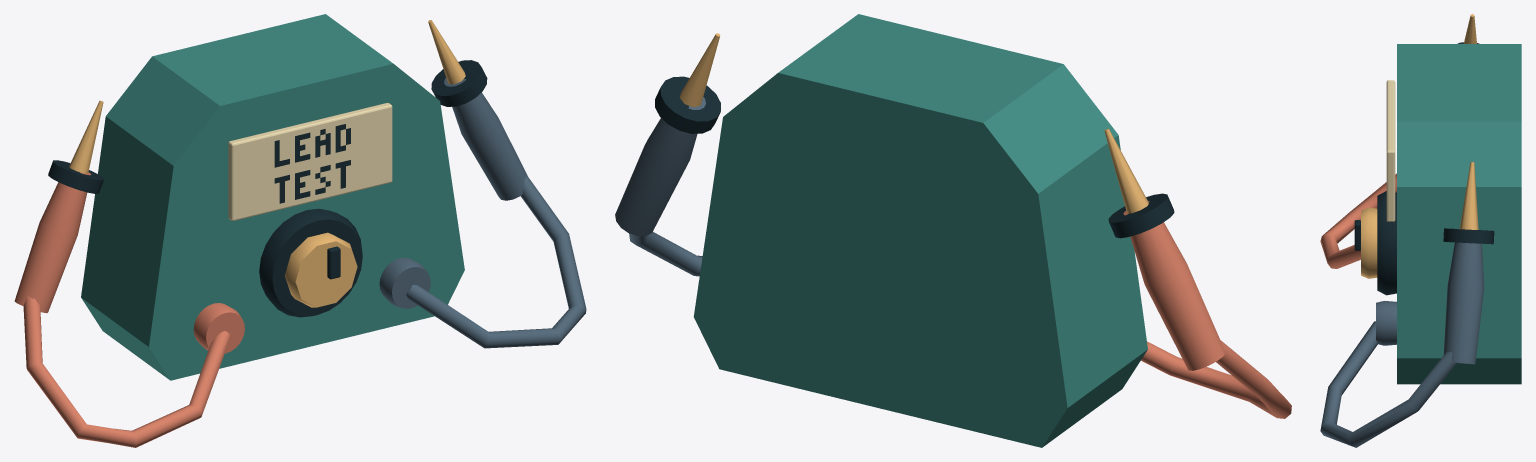
3 renders of one model, left to right at view 1: azimuth 30°, elevation 25°; view 2: azimuth 150°, elevation 25°; view 3: azimuth 270°, elevation 25°, orthographic. The views are drawn at different scales.
Visible parts, largest first — view 1: PR122 enamel and hardware; view 2: PR122 enamel and hardware; view 3: PR122 enamel and hardware.
Boxes of the visible parts, x1=… form: PR122 enamel and hardware: x1=14, y1=14, x2=586, y2=447; PR122 enamel and hardware: x1=615, y1=14, x2=1291, y2=447; PR122 enamel and hardware: x1=1320, y1=14, x2=1521, y2=447.
Bounding box in the file's own units: 0.47 × 0.2349 × 0.165.
